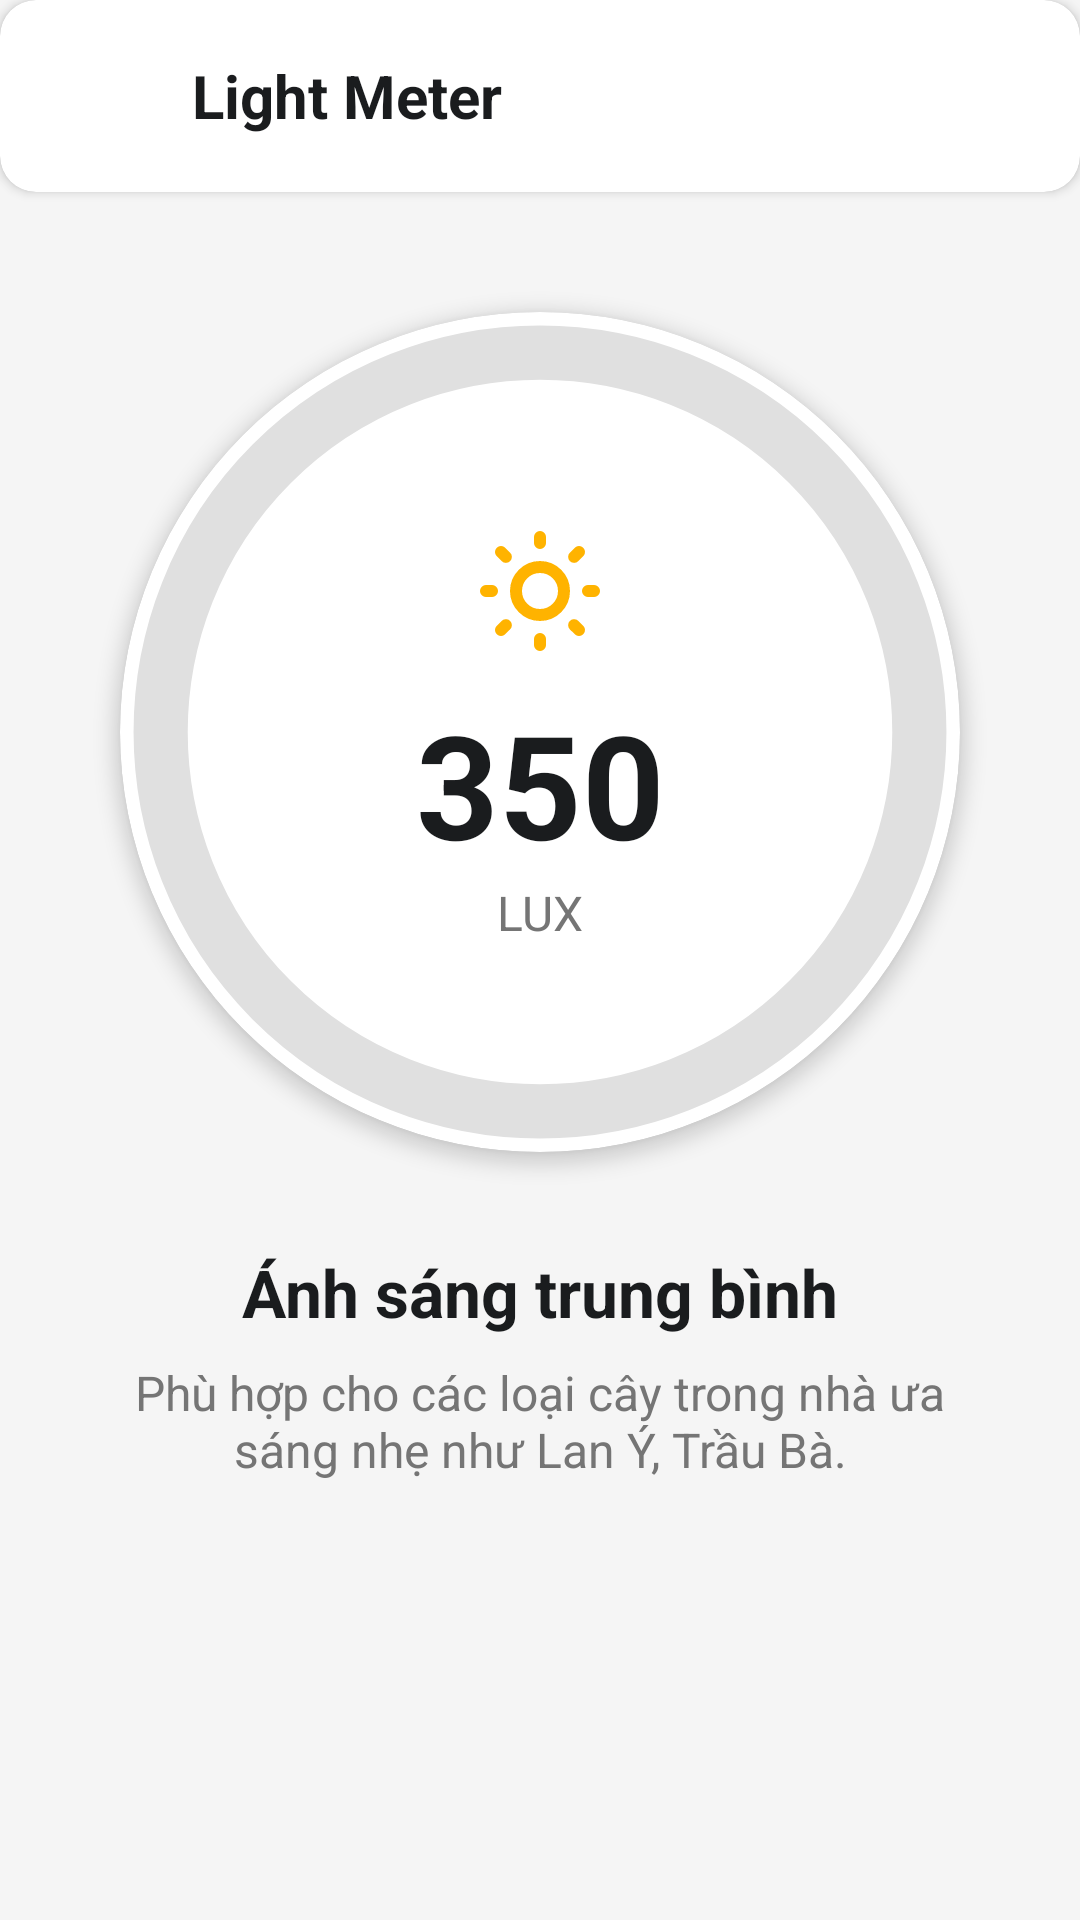

Icon click points for this 1080*1920 phone screenshot, format (x=x, y=y):
sun: (x=540, y=591)
